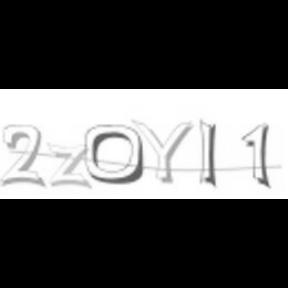1: (237, 119, 273, 189)
2: (1, 122, 47, 188)
I: (195, 116, 221, 188)
O: (82, 121, 144, 187)
Y: (132, 119, 194, 186)
z: (46, 141, 92, 187)
